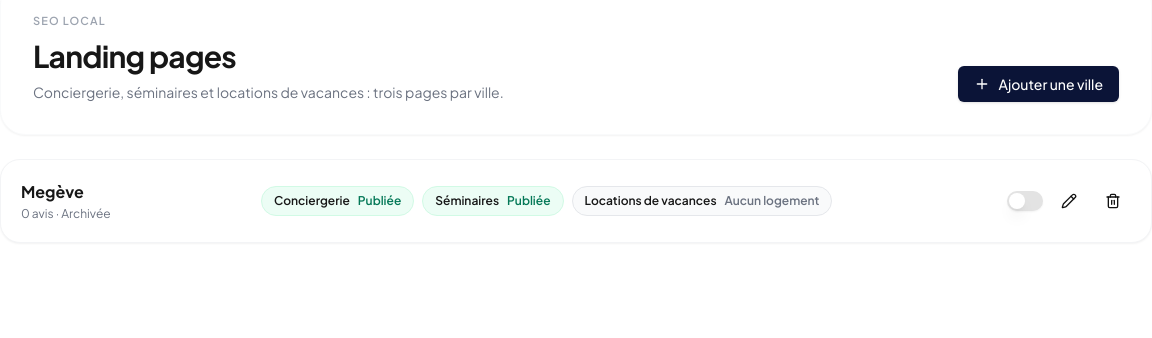
048 / 076 admin landing list › rejects malformed successful API responses without refreshing or corrupting UI state
Click the switch named "Activer Megève": (1025, 200) [1007,190,1043,210]
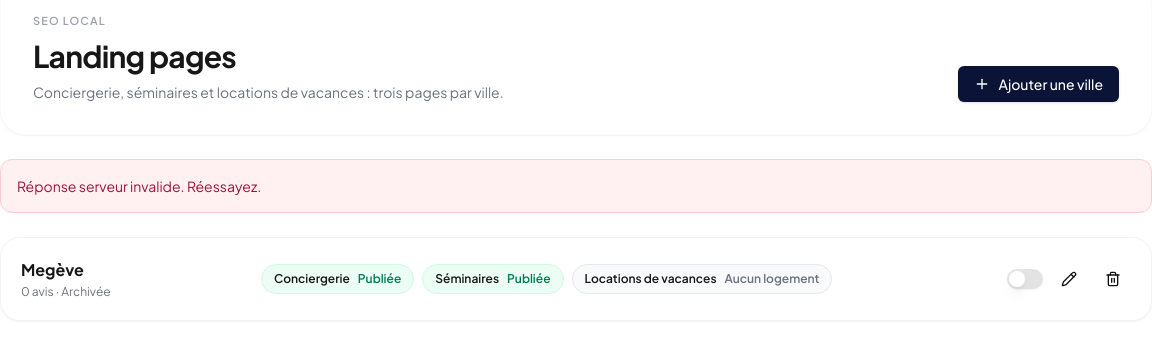
Expected: the switch named "Activer Megève" is not checked, [1007,268,1043,288]
Expected: the message shows "Réponse serveur invalide", [17,176,261,194]
